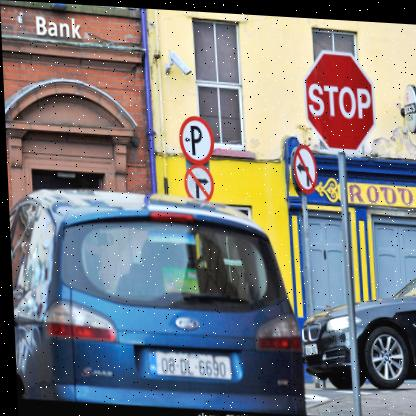No left turn: (294, 138, 316, 191)
